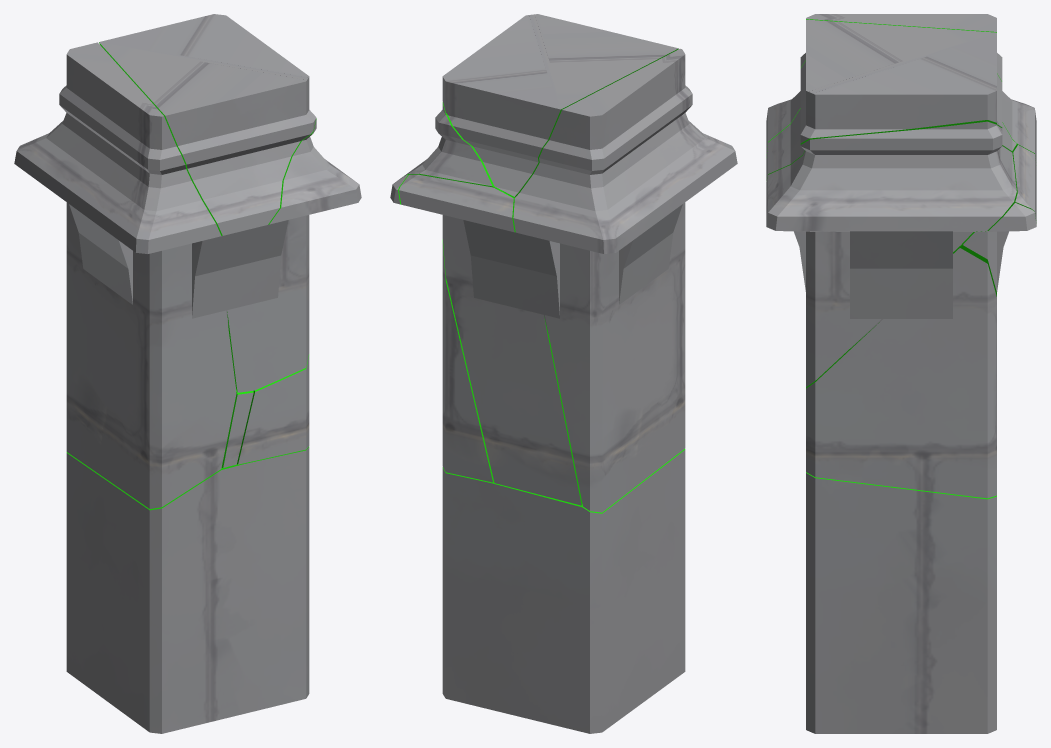
File: SM_Column_Var3_Broken.fbx
3 renders of one model, left to right at view 1: azimuth 30°, elevation 25°; view 2: azimuth 150°, elevation 25°; view 3: azimuth 270°, elevation 25°, orthographic. The views are drawn at different scales.
Parts seen in each view (by area): view 1: SM_Column_Var3_Broken_02, SM_Column_Var3_Broken_05, SM_Column_Var3_Broken_04, SM_Column_Var3_Broken_03, SM_Column_Var3_Broken_09, SM_Column_Var3_Broken_01, SM_Column_Var3_Broken_07, SM_Column_Var3_Broken; view 2: SM_Column_Var3_Broken_02, SM_Column_Var3_Broken_05, SM_Column_Var3_Broken, SM_Column_Var3_Broken_04, SM_Column_Var3_Broken_08, SM_Column_Var3_Broken_01, SM_Column_Var3_Broken_07, SM_Column_Var3_Broken_03; view 3: SM_Column_Var3_Broken_02, SM_Column_Var3_Broken_01, SM_Column_Var3_Broken_03, SM_Column_Var3_Broken_04, SM_Column_Var3_Broken_06, SM_Column_Var3_Broken_05, SM_Column_Var3_Broken.
Part boxes in pixels (bbox=[...]): SM_Column_Var3_Broken_02: bbox=[66, 446, 309, 733]; SM_Column_Var3_Broken_05: bbox=[14, 42, 236, 508]; SM_Column_Var3_Broken_04: bbox=[99, 14, 316, 235]; SM_Column_Var3_Broken_03: bbox=[227, 118, 361, 392]; SM_Column_Var3_Broken_09: bbox=[192, 220, 288, 328]; SM_Column_Var3_Broken_01: bbox=[237, 354, 309, 464]; SM_Column_Var3_Broken_07: bbox=[69, 204, 132, 304]; SM_Column_Var3_Broken: bbox=[221, 389, 253, 467]; SM_Column_Var3_Broken_02: bbox=[442, 449, 685, 733]; SM_Column_Var3_Broken_05: bbox=[513, 48, 737, 512]; SM_Column_Var3_Broken: bbox=[399, 174, 582, 505]; SM_Column_Var3_Broken_04: bbox=[442, 14, 678, 198]; SM_Column_Var3_Broken_08: bbox=[463, 220, 559, 332]; SM_Column_Var3_Broken_01: bbox=[390, 174, 493, 482]; SM_Column_Var3_Broken_07: bbox=[619, 204, 682, 304]; SM_Column_Var3_Broken_03: bbox=[404, 102, 514, 198]; SM_Column_Var3_Broken_02: bbox=[806, 472, 996, 733]; SM_Column_Var3_Broken_01: bbox=[806, 202, 1036, 498]; SM_Column_Var3_Broken_03: bbox=[766, 121, 1016, 386]; SM_Column_Var3_Broken_04: bbox=[766, 19, 1016, 180]; SM_Column_Var3_Broken_06: bbox=[850, 231, 952, 347]; SM_Column_Var3_Broken_05: bbox=[766, 14, 1036, 164]; SM_Column_Var3_Broken: bbox=[953, 145, 1036, 296].
Bounding box in the file's own units: 0.3829 × 1 × 0.3829.
